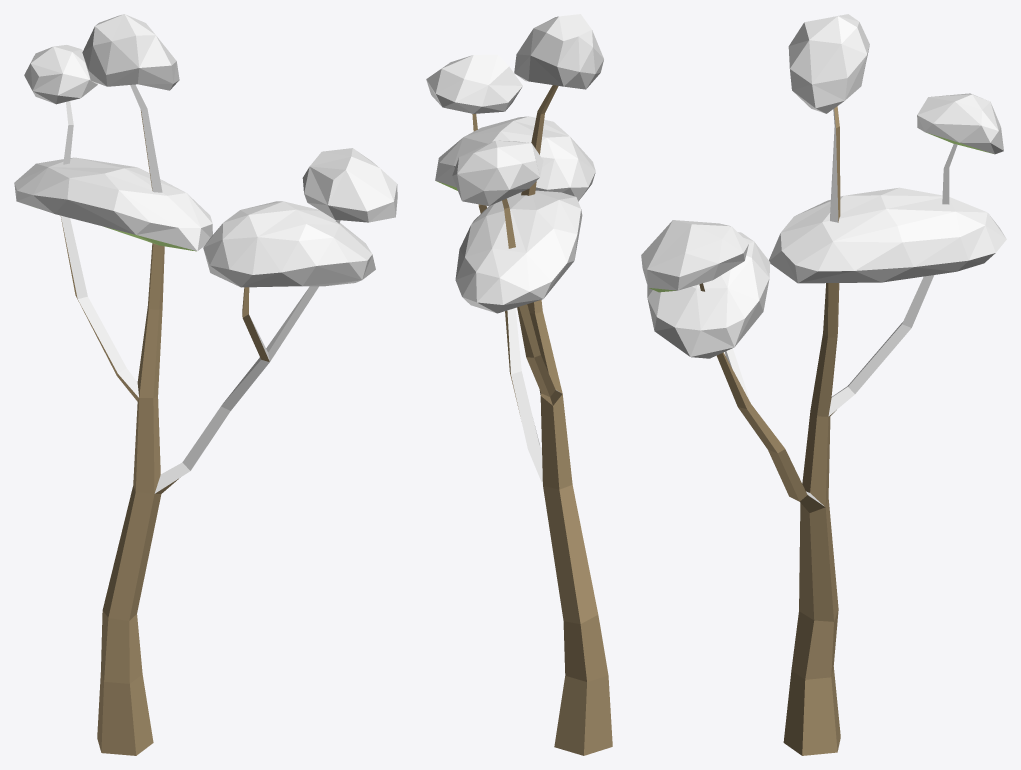
The model's file is Acacia_Tree_l_Snow_06_LOD.fbx.
The picture shows the model from 3 angles, left to right: view 1: azimuth 30°, elevation 25°; view 2: azimuth 150°, elevation 25°; view 3: azimuth 270°, elevation 25°; orthographic projection. The views are drawn at different scales.
Parts seen in each view (by area): view 1: Acacia_Tree_l_Snow_06_LOD0; view 2: Acacia_Tree_l_Snow_06_LOD0; view 3: Acacia_Tree_l_Snow_06_LOD0.
Boxes of the visible parts, x1,y1,x2,y2 form: Acacia_Tree_l_Snow_06_LOD0: (14, 14, 397, 755); Acacia_Tree_l_Snow_06_LOD0: (426, 14, 612, 755); Acacia_Tree_l_Snow_06_LOD0: (641, 14, 1006, 755).
Size of what is drawn, in the model's own units: 365 by 1022 by 461.
